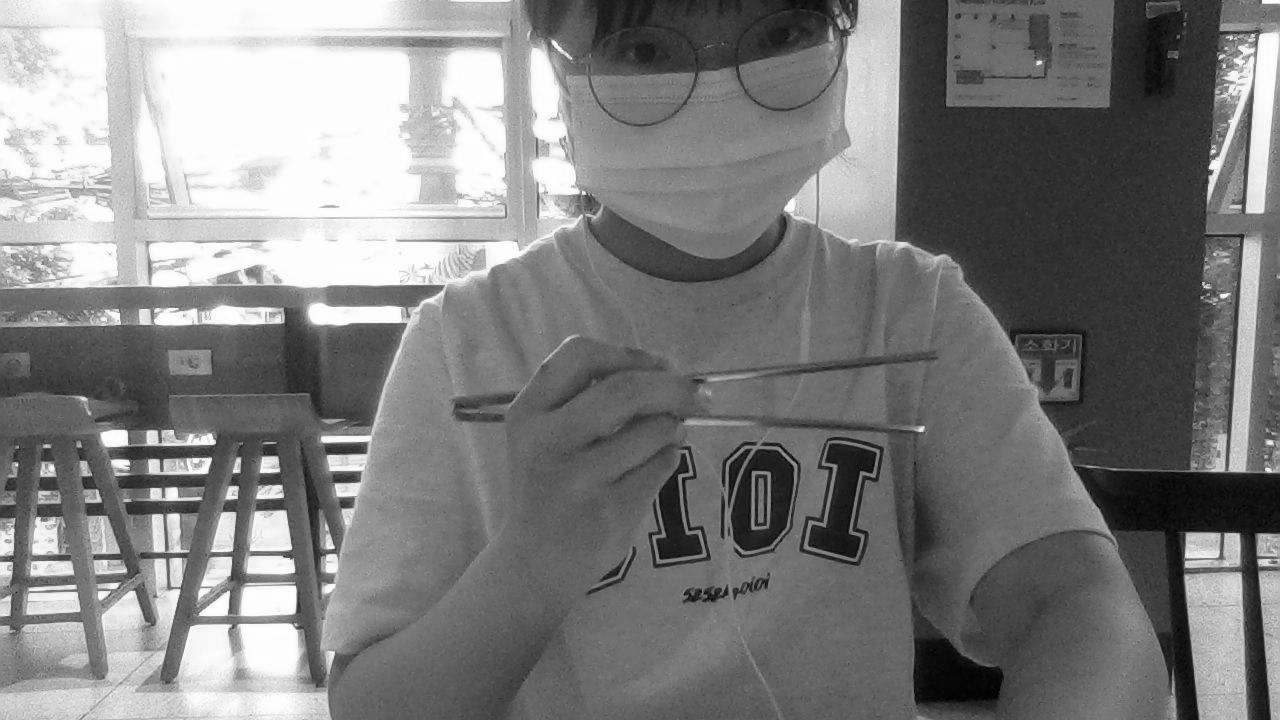chopstick: (452, 351, 946, 407), (449, 407, 928, 434)
hand: (507, 333, 715, 587)
